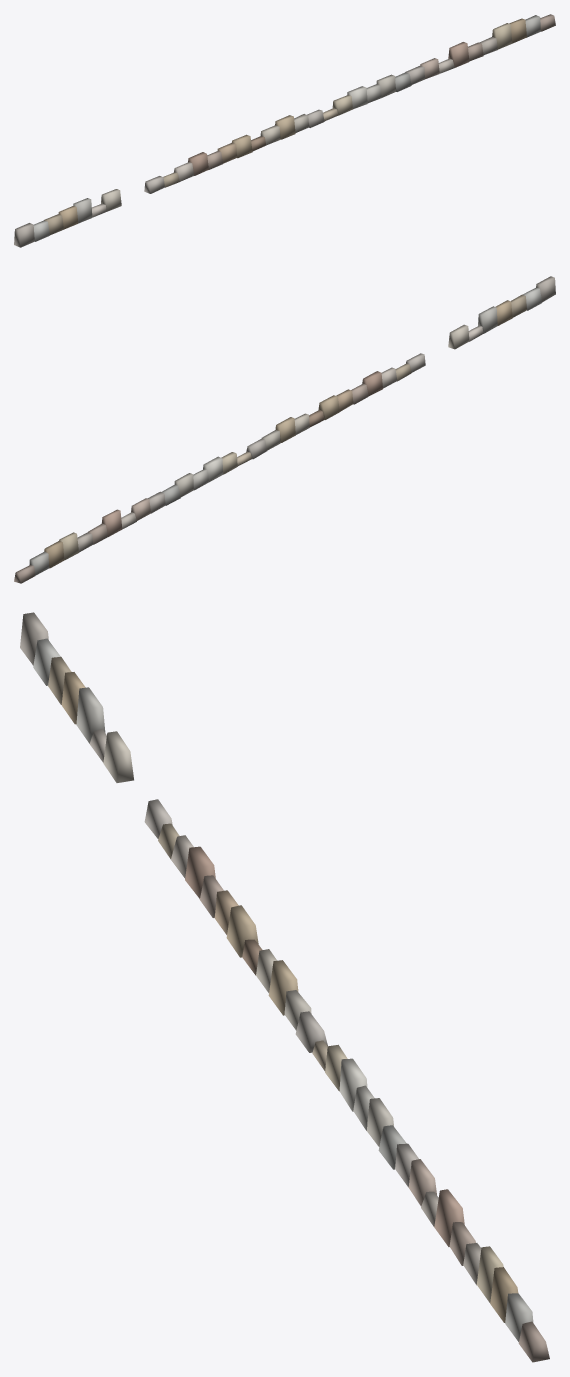
Rendered from farm_-2_17_far.glb.
3 views of the same model, one above another, from view 1: azimuth 30°, elevation 25°; view 2: azimuth 210°, elevation 25°; view 3: azimuth 270°, elevation 25° (orthographic). The views are drawn at different scales.
Parts seen in each view (by area): view 1: geometry_0; view 2: geometry_0; view 3: geometry_0.
Part boxes in pixels (box(x1,y1,x2,y2)): geometry_0: box(14, 14, 555, 247); geometry_0: box(14, 276, 555, 583); geometry_0: box(20, 612, 549, 1362).
Size of the model in its own units: 56.22 by 4.05 by 19.38.
